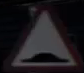Speed Breaker ahead: (2, 11, 75, 63)
